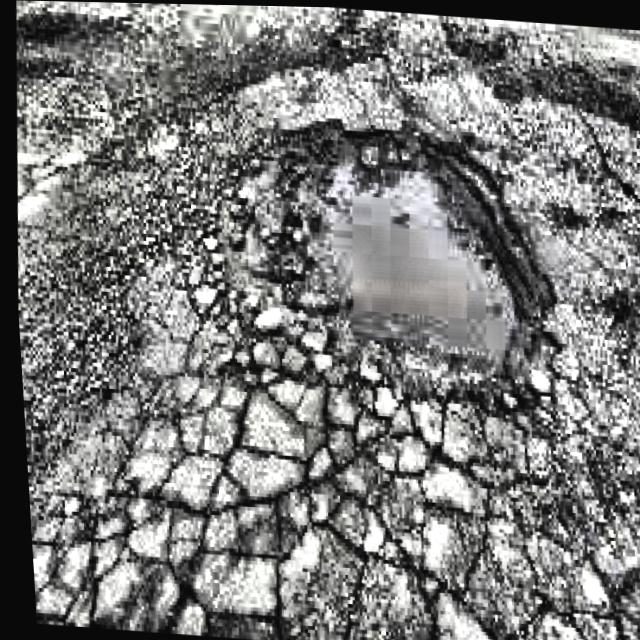alligator_cracks: (18, 306, 634, 640)
pothole: (238, 145, 545, 346)
